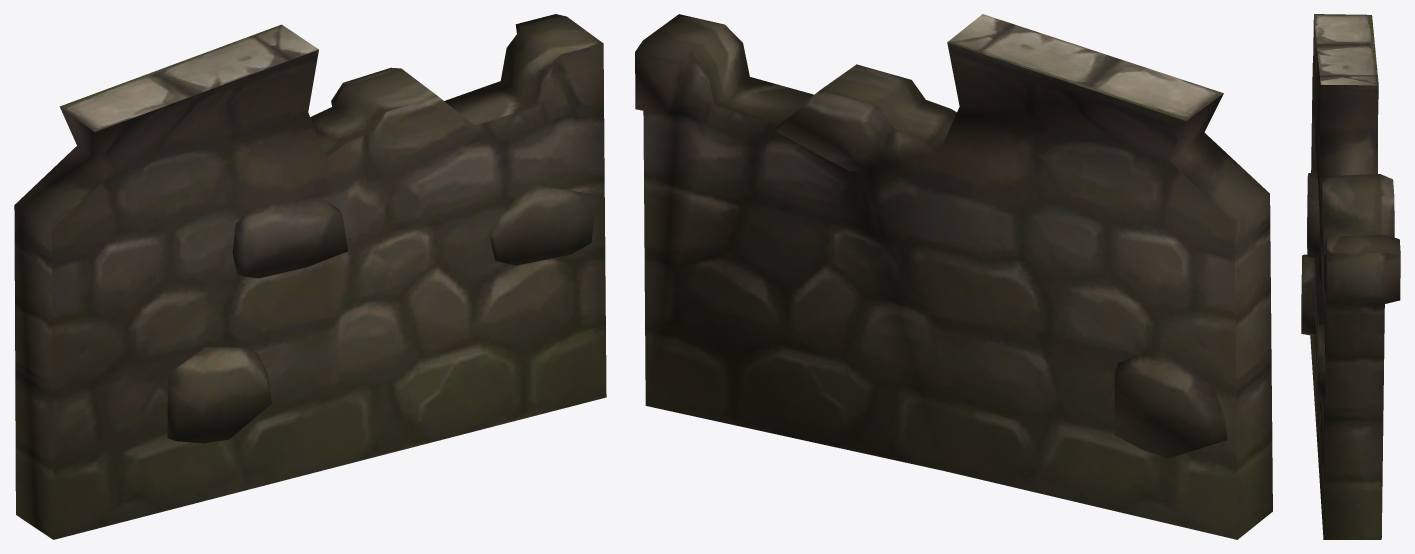
Rendered from environment_common_Stonewall_003_a.FBX.
The picture shows the model from 3 angles, left to right: view 1: azimuth 30°, elevation 25°; view 2: azimuth 150°, elevation 25°; view 3: azimuth 270°, elevation 25°; orthographic projection. The views are drawn at different scales.
Parts seen in each view (by area): view 1: environment_common_Stonewall_003_a; view 2: environment_common_Stonewall_003_a; view 3: environment_common_Stonewall_003_a.
Boxes of the visible parts, x1,y1,x2,y2 form: environment_common_Stonewall_003_a: (14,14,606,539); environment_common_Stonewall_003_a: (635,14,1272,539); environment_common_Stonewall_003_a: (1301,14,1400,539).
Size of the model in its own units: 362 by 258 by 68.28.
